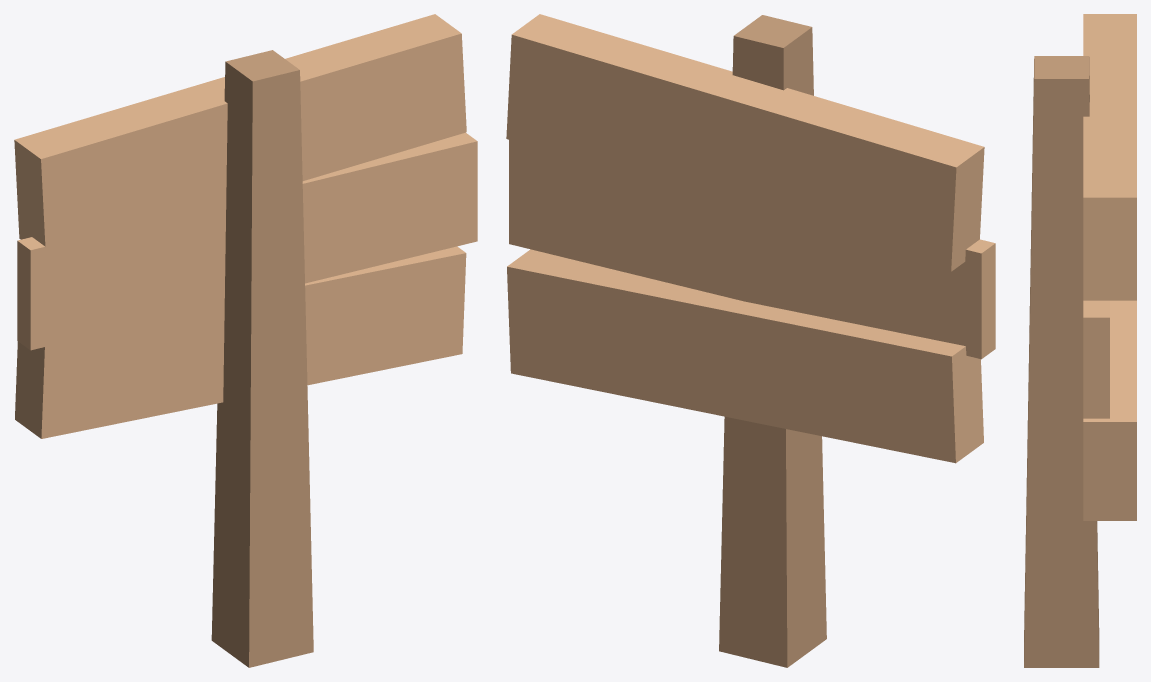
Rendered from sign.glb.
3 views of the same model, side by side, from view 1: azimuth 30°, elevation 25°; view 2: azimuth 150°, elevation 25°; view 3: azimuth 270°, elevation 25° (orthographic). The views are drawn at different scales.
Visible parts, largest first — view 1: sign; view 2: sign; view 3: sign.
Boxes of the visible parts, <box> form: sign: <box>14,14,477,667</box>; sign: <box>506,14,995,667</box>; sign: <box>1024,14,1136,667</box>.
Bounding box in the file's own units: 0.4835 × 0.6 × 0.105.
